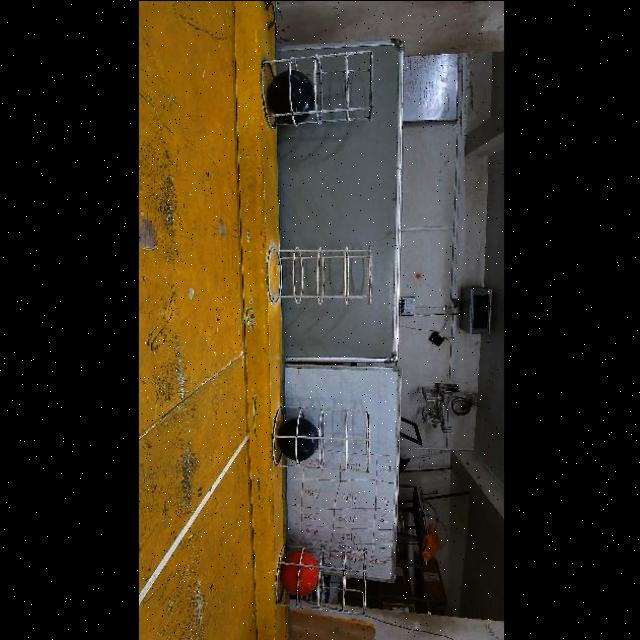P: (267, 70, 312, 118), (277, 416, 319, 460)
R: (282, 548, 320, 593)
S: (261, 48, 377, 128), (273, 244, 381, 306), (284, 412, 372, 478), (287, 548, 369, 610)
